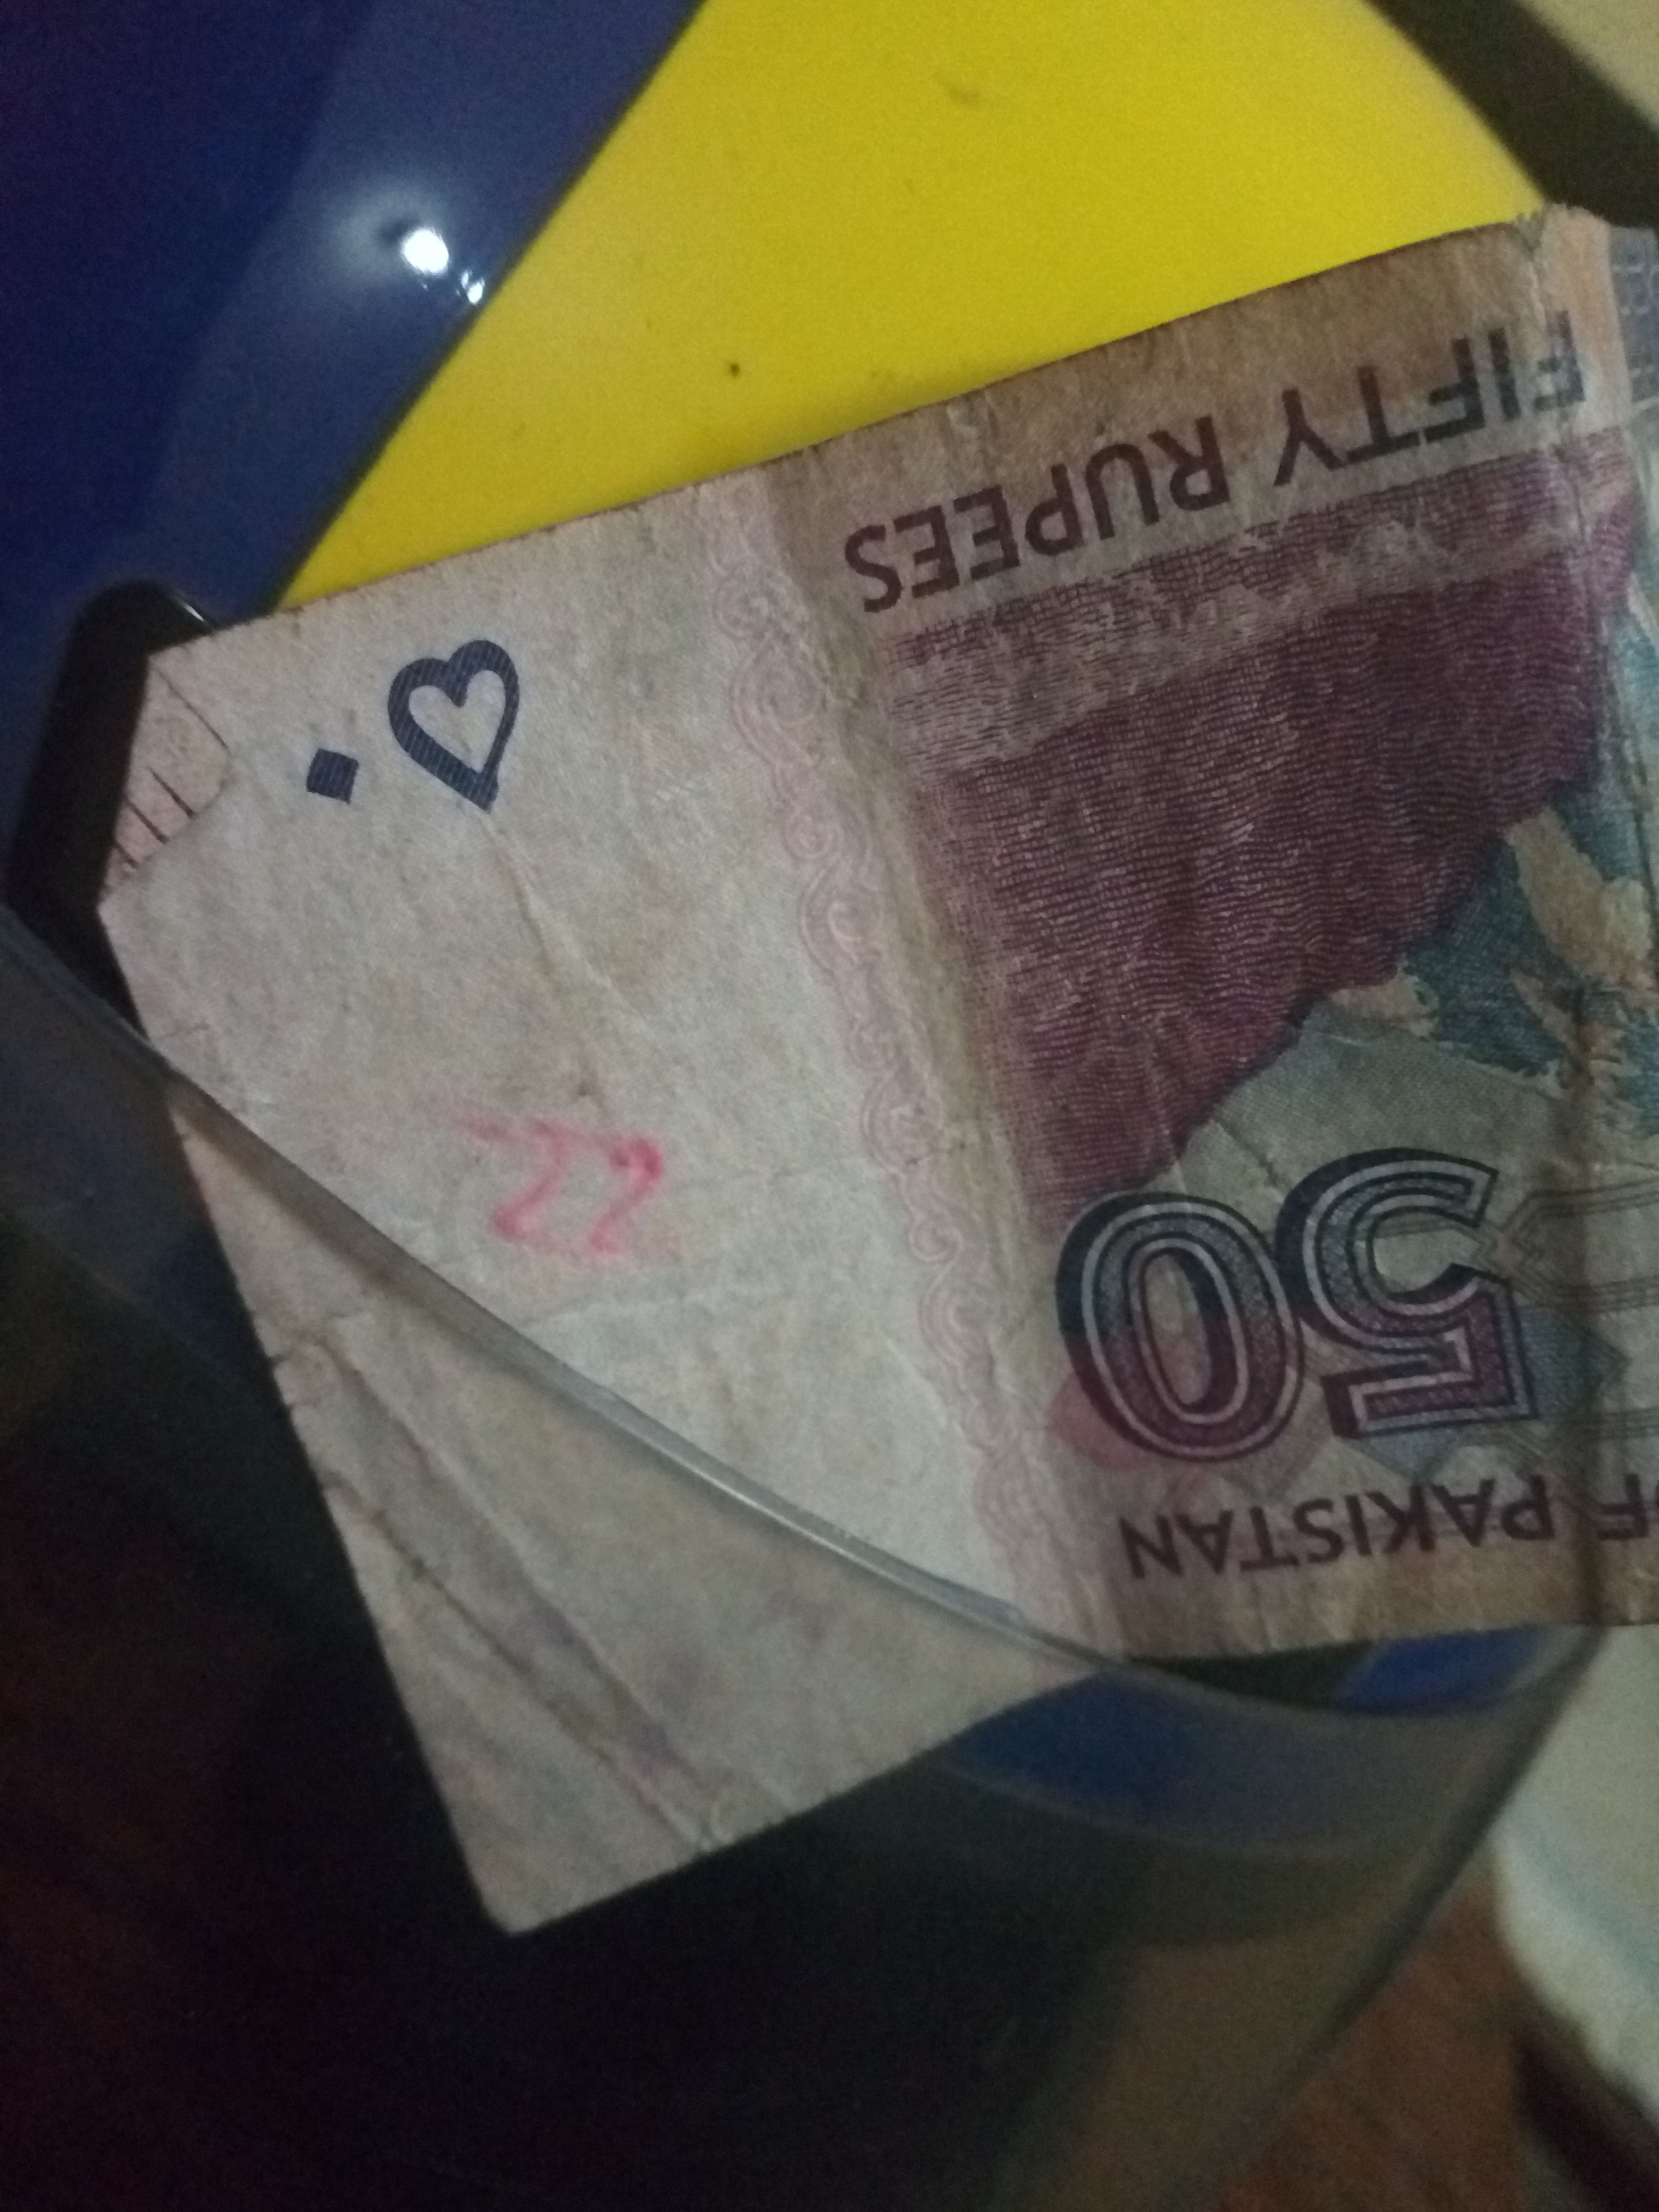50 rupee: (138, 216, 1649, 1986)
